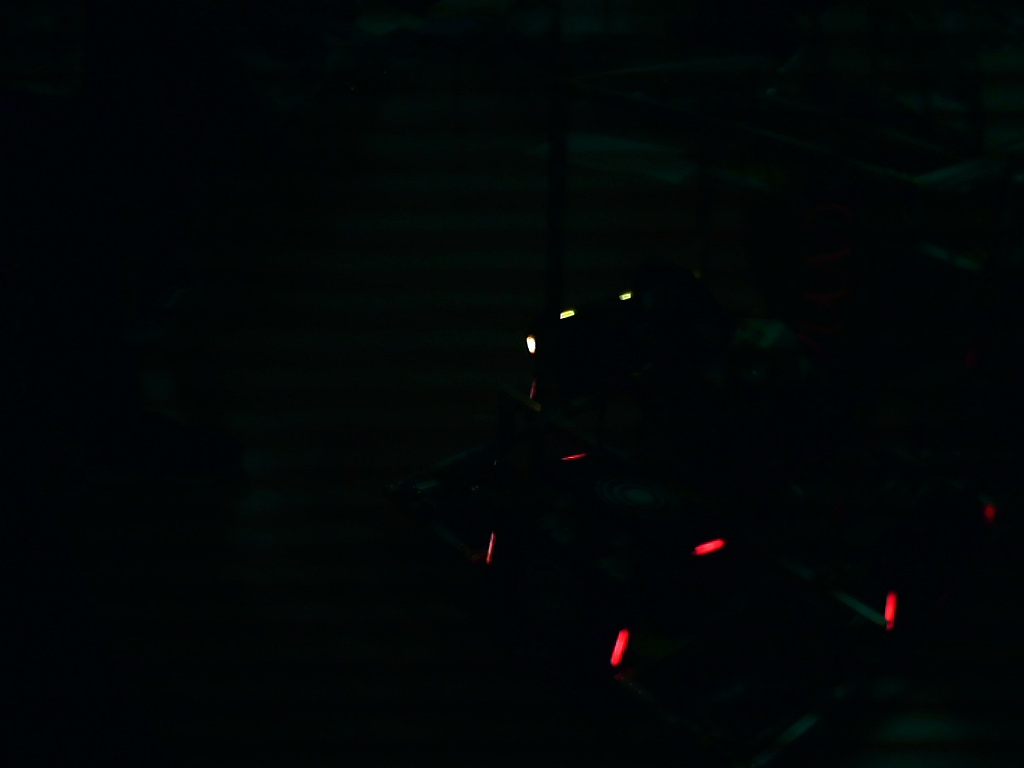lamp: (607, 622, 633, 671)
